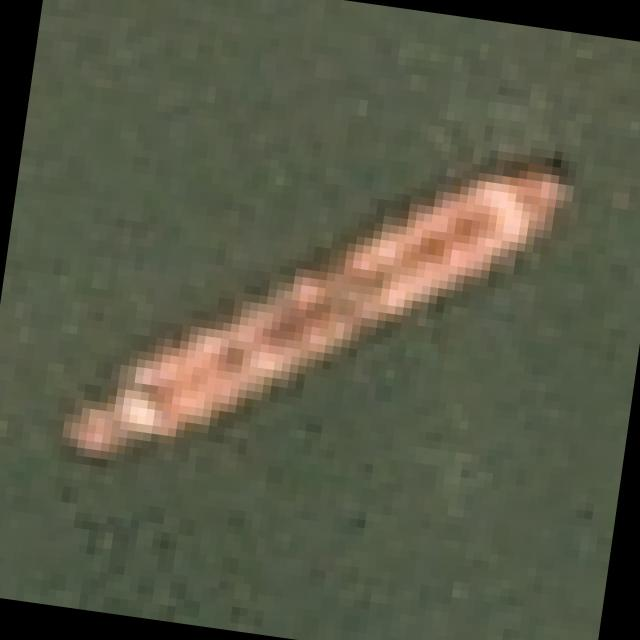ship: (22, 84, 594, 566)
